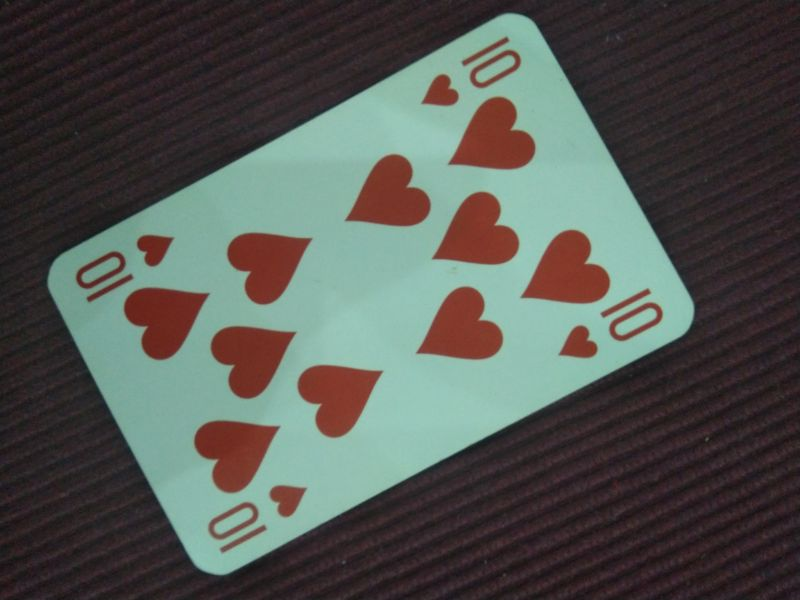Th: (553, 284, 674, 360), (413, 34, 529, 112), (205, 484, 312, 556), (74, 231, 175, 306)
